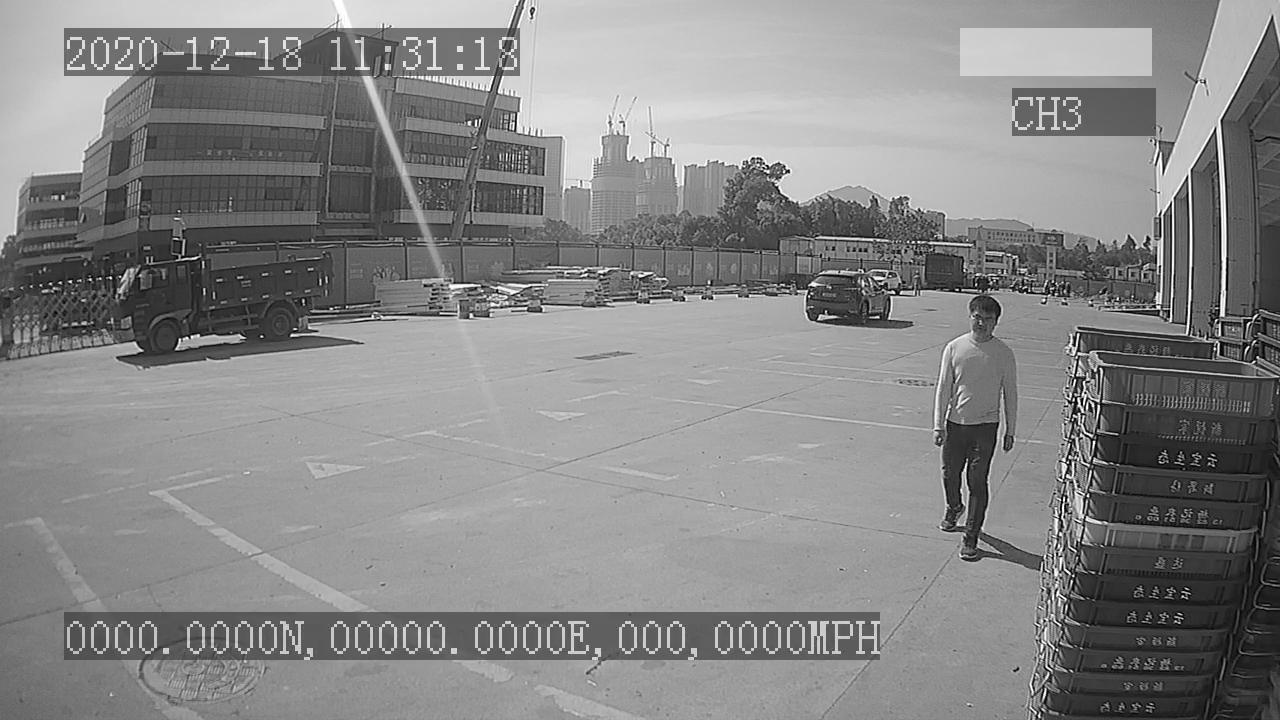person: (925, 290, 1019, 562)
